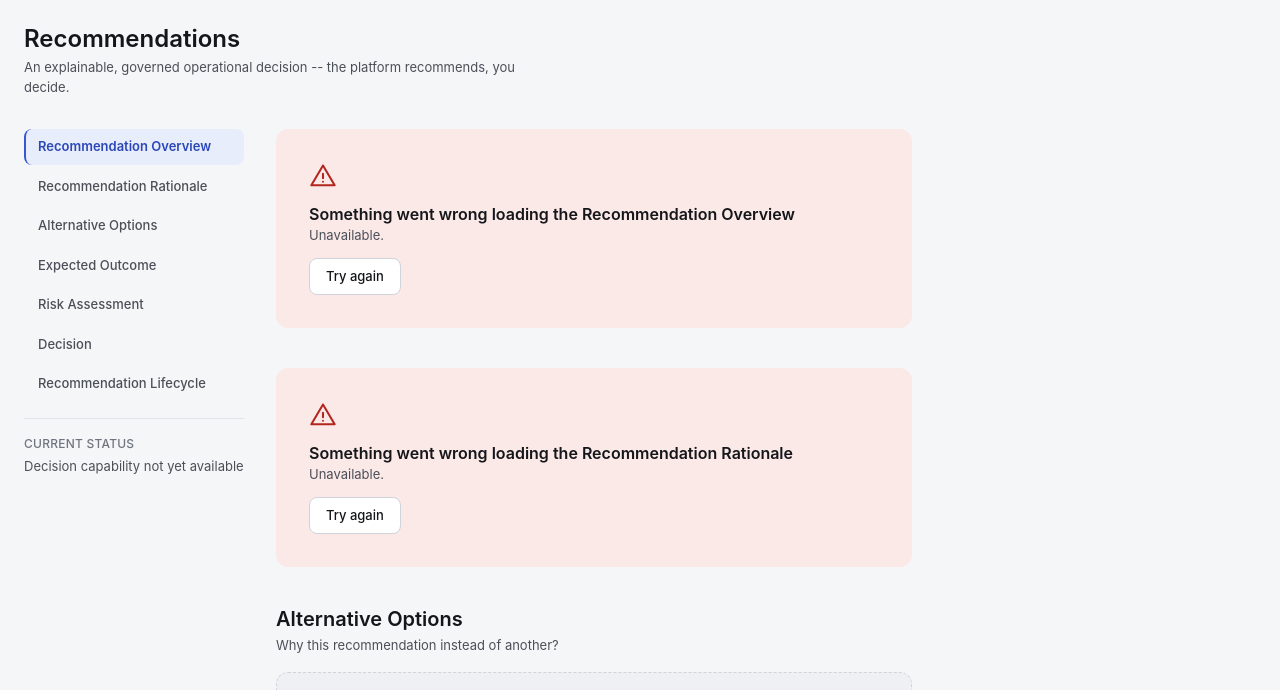
Test case: Recommendation real routing + Gateway integration › Part 7: retry issues a genuine new GET /api/v1/recommendations/:recommendationId request, and both sibling sections recover together
Expected: the text "Something went wrong loading the Recommendation Overview" is shown, 309,202 -> 795,226
Click the button "Try again" below "the Recommendation Overview" at (355, 276), box 309,258 -> 401,295
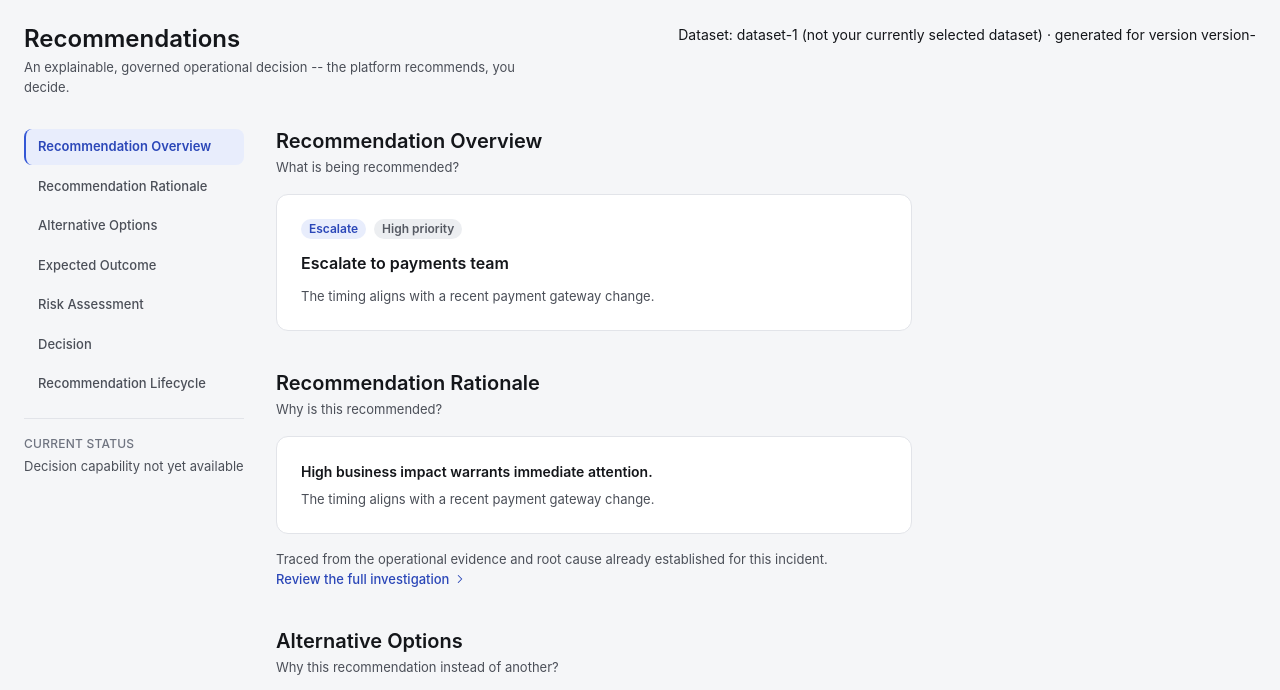
Result: the text "Escalate to payments team" is shown at 301,252 -> 509,272
Result: the text "Something went wrong loading" is gone
